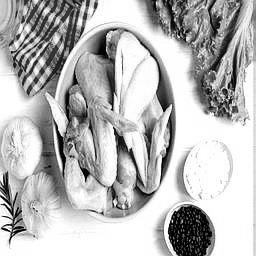bukan telur: (21, 171, 62, 238), (4, 118, 43, 179)
